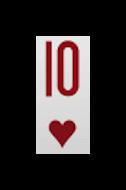10H: (39, 39, 85, 150)
